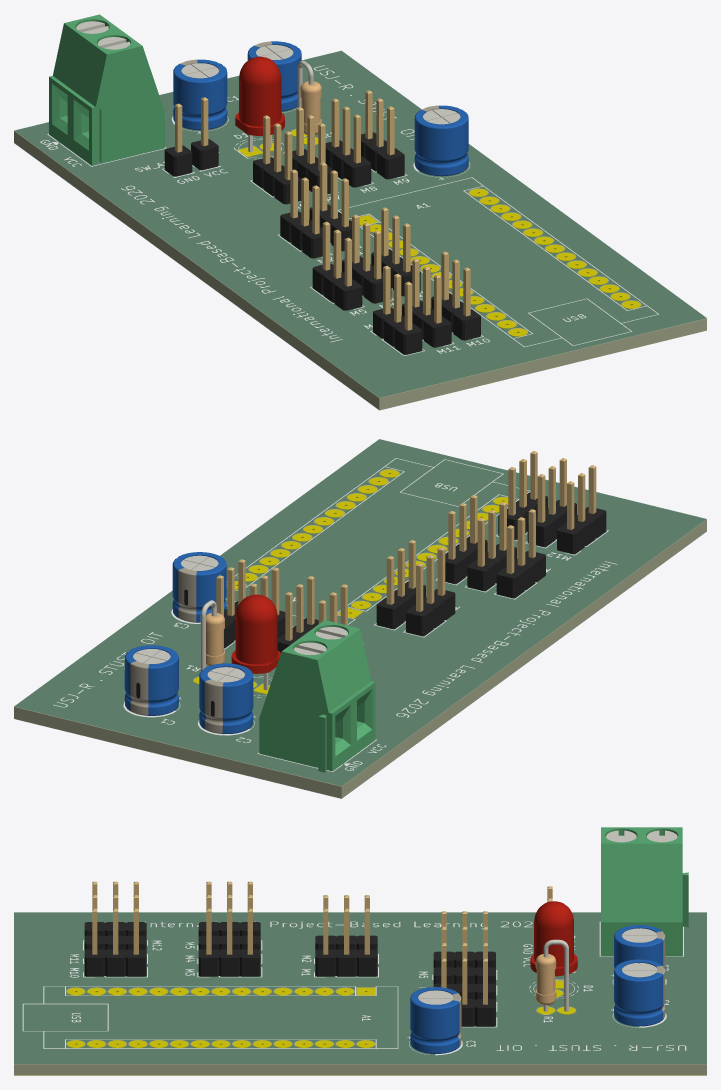
The model's file is board_old.glb.
The picture shows the model from 3 angles, top to bottom: view 1: azimuth 30°, elevation 25°; view 2: azimuth 150°, elevation 25°; view 3: azimuth 270°, elevation 25°; orthographic projection. The views are drawn at different scales.
Visible parts, largest first — view 1: =>[0:1:1:18], =>[0:1:1:16], =>[0:1:1:3] (×12), =>[0:1:1:7], =>[0:1:1:5] (×3), =>[0:1:1:15], =>[0:1:1:14], =>[0:1:1:13], =>[0:1:1:11] (×2), =>[0:1:1:9], =>[0:1:1:17]; view 2: =>[0:1:1:18], =>[0:1:1:16], =>[0:1:1:3] (×12), =>[0:1:1:7], =>[0:1:1:5] (×3), =>[0:1:1:15], =>[0:1:1:14], =>[0:1:1:13], =>[0:1:1:9], =>[0:1:1:17]; view 3: =>[0:1:1:18], =>[0:1:1:16], =>[0:1:1:3] (×12), =>[0:1:1:7], =>[0:1:1:5] (×3), =>[0:1:1:14], =>[0:1:1:15], =>[0:1:1:13], =>[0:1:1:9].
Part boxes in pixels (left/top/right/bottom): =>[0:1:1:18]: left=14, top=51, right=706, bottom=409; =>[0:1:1:16]: left=14, top=50, right=706, bottom=397; =>[0:1:1:3] (×12): left=253, top=90, right=480, bottom=354; =>[0:1:1:7]: left=49, top=14, right=164, bottom=165; =>[0:1:1:5] (×3): left=173, top=41, right=468, bottom=176; =>[0:1:1:15]: left=40, top=65, right=658, bottom=355; =>[0:1:1:14]: left=238, top=129, right=640, bottom=347; =>[0:1:1:13]: left=235, top=56, right=284, bottom=152; =>[0:1:1:11] (×2): left=164, top=97, right=218, bottom=176; =>[0:1:1:9]: left=297, top=60, right=321, bottom=134; =>[0:1:1:17]: left=14, top=143, right=706, bottom=410; =>[0:1:1:18]: left=14, top=440, right=706, bottom=798; =>[0:1:1:16]: left=14, top=439, right=706, bottom=786; =>[0:1:1:3] (×12): left=216, top=451, right=606, bottom=652; =>[0:1:1:7]: left=259, top=620, right=375, bottom=772; =>[0:1:1:5] (×3): left=124, top=552, right=253, bottom=733; =>[0:1:1:15]: left=53, top=458, right=617, bottom=772; =>[0:1:1:14]: left=194, top=469, right=574, bottom=694; =>[0:1:1:13]: left=231, top=594, right=280, bottom=690; =>[0:1:1:9]: left=200, top=600, right=224, bottom=671; =>[0:1:1:17]: left=15, top=531, right=706, bottom=798; =>[0:1:1:18]: left=14, top=913, right=706, bottom=1075; =>[0:1:1:16]: left=14, top=912, right=706, bottom=1063; =>[0:1:1:3] (×12): left=84, top=881, right=495, bottom=1026; =>[0:1:1:7]: left=601, top=827, right=688, bottom=955; =>[0:1:1:5] (×3): left=410, top=925, right=665, bottom=1053; =>[0:1:1:14]: left=15, top=980, right=705, bottom=1075; =>[0:1:1:15]: left=22, top=921, right=686, bottom=1055; =>[0:1:1:13]: left=530, top=901, right=577, bottom=989; =>[0:1:1:9]: left=535, top=939, right=568, bottom=1011.
Size of the model in its own units: 0.044 by 0.0173 by 0.085.
